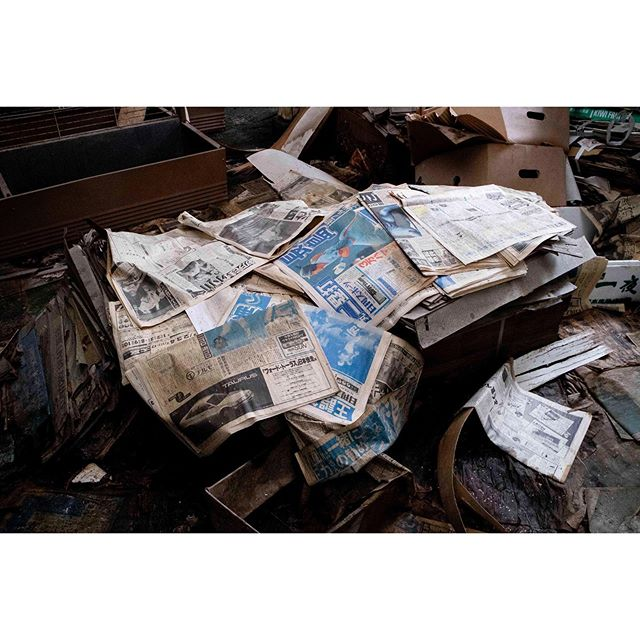trash: (1, 106, 640, 531)
